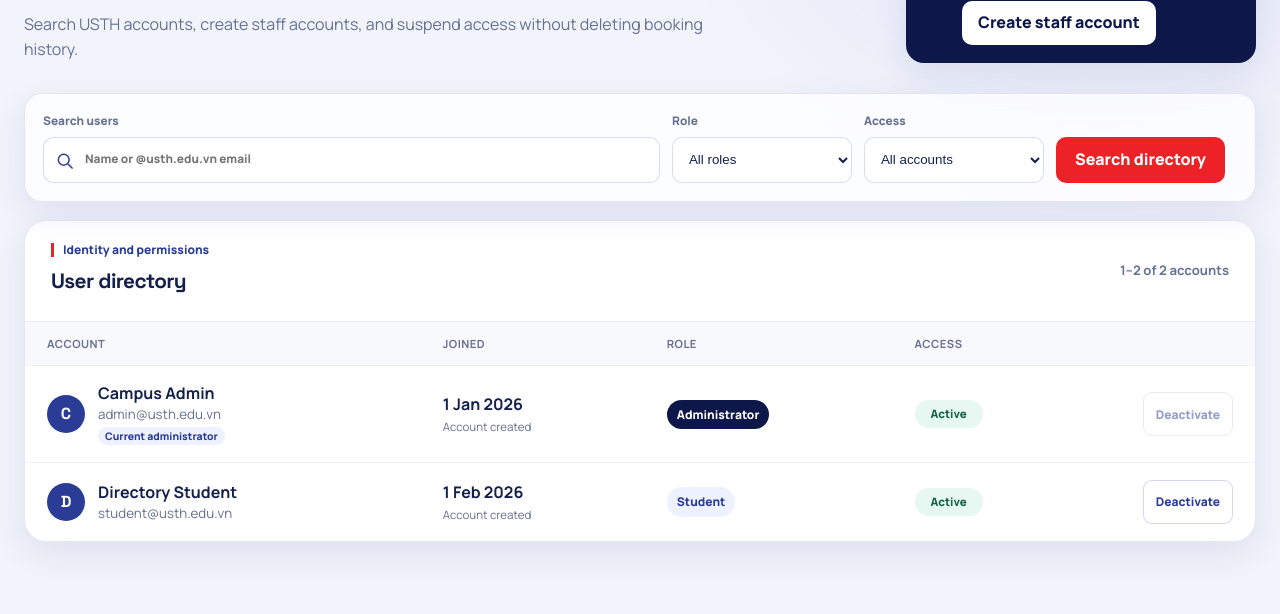
Test: AdminUserManager › explains deactivation and records the inactive state
This screenshot has width=1280, height=614.
(page scrolled)
Click the button "Deactivate" in the row of "Directory Student" at (1188, 502), box x1=1143 y1=480 x2=1233 y2=524
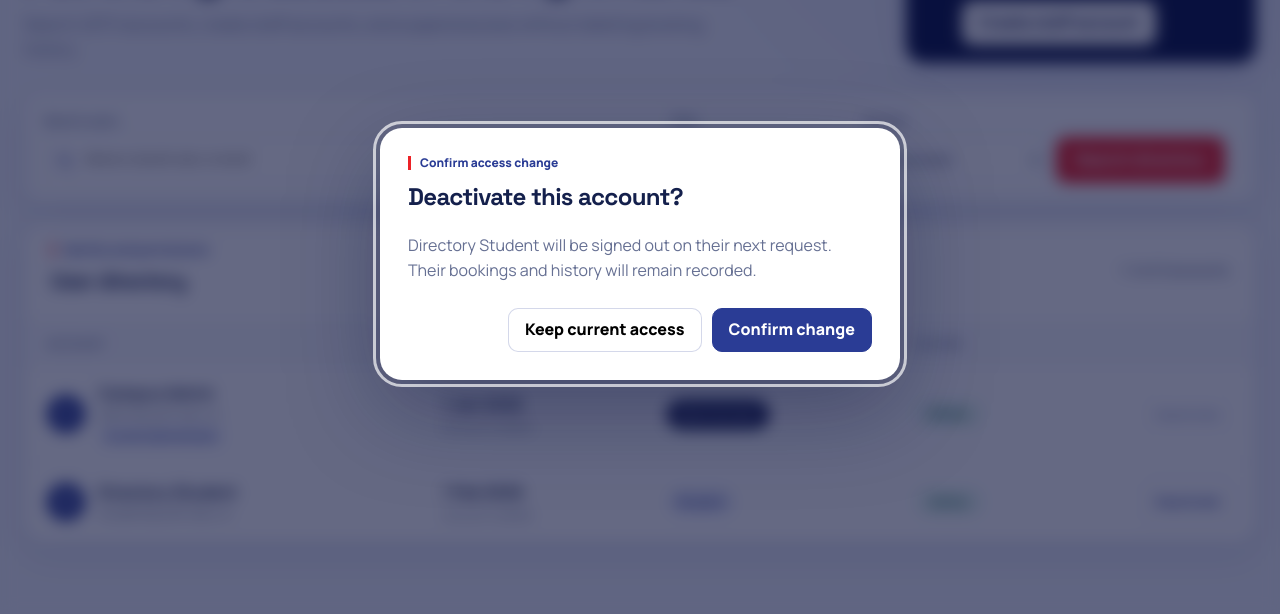
Now the text "signed out on their next request" is shown, box x1=408 y1=234 x2=832 y2=281
Click the button "Confirm change" at (792, 330), box x1=712 y1=308 x2=872 y2=352
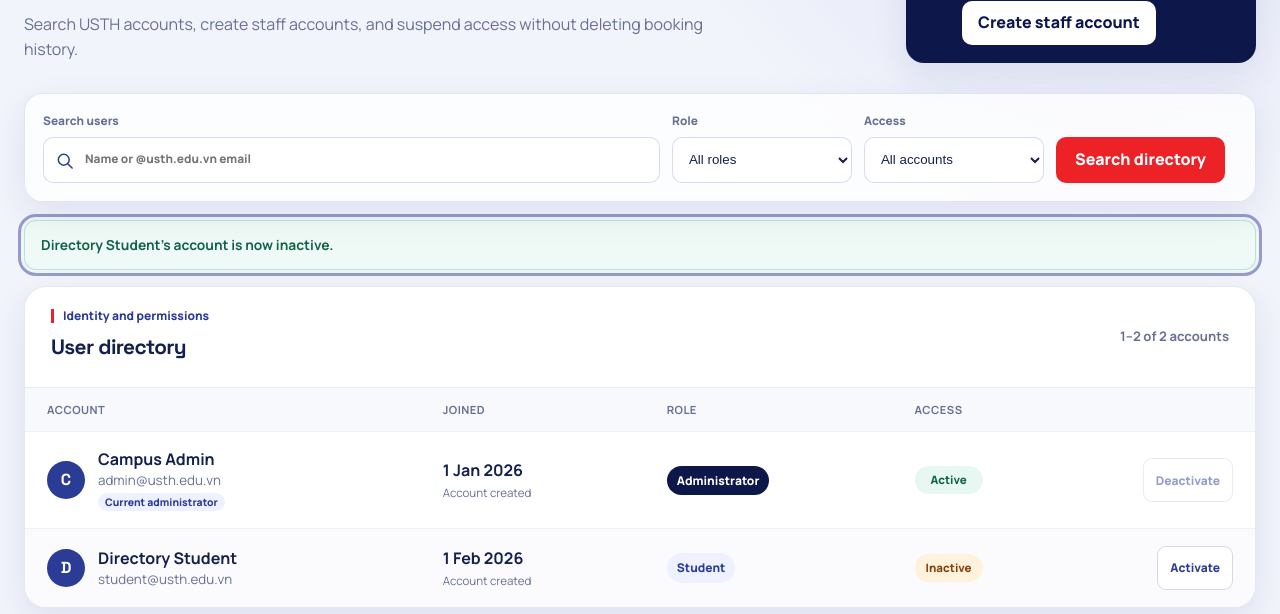
Now the text "Inactive" is shown, box x1=915 y1=554 x2=983 y2=582
